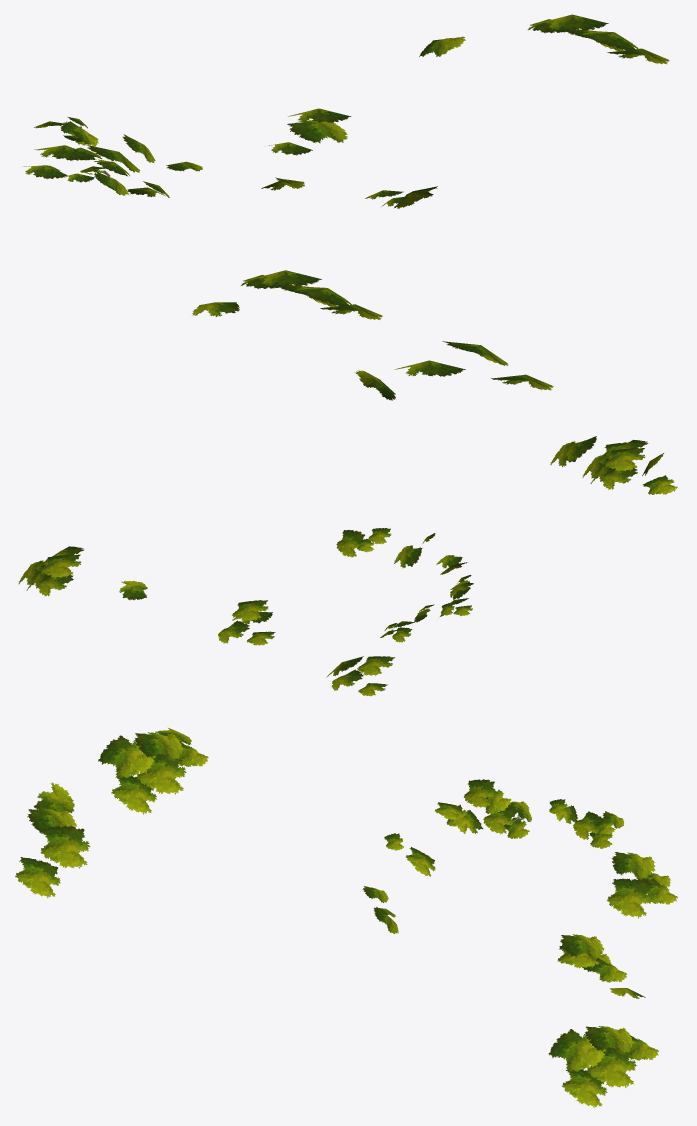
The model's file is zhsly_shuye.FBX.
The picture shows the model from 3 angles, top to bottom: view 1: azimuth 30°, elevation 25°; view 2: azimuth 150°, elevation 25°; view 3: azimuth 270°, elevation 25°; orthographic projection. The views are drawn at different scales.
Parts seen in each view (by area): view 1: zhsly_shuye; view 2: zhsly_shuye; view 3: zhsly_shuye.
Part boxes in pixels (bbox=[...]): zhsly_shuye: bbox=[23, 14, 669, 400]; zhsly_shuye: bbox=[18, 436, 677, 696]; zhsly_shuye: bbox=[15, 728, 677, 1107].
Bounding box in the file's own units: 6140 × 1253 × 6071.
